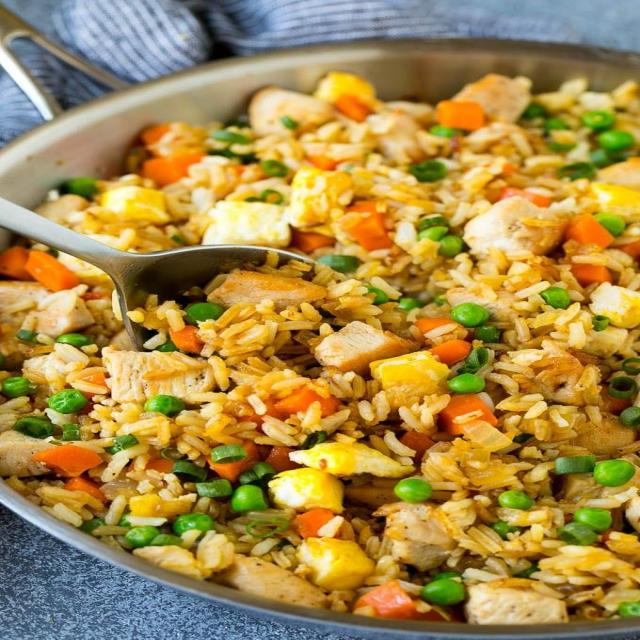Nasi Goreng: (2, 68, 638, 625)
